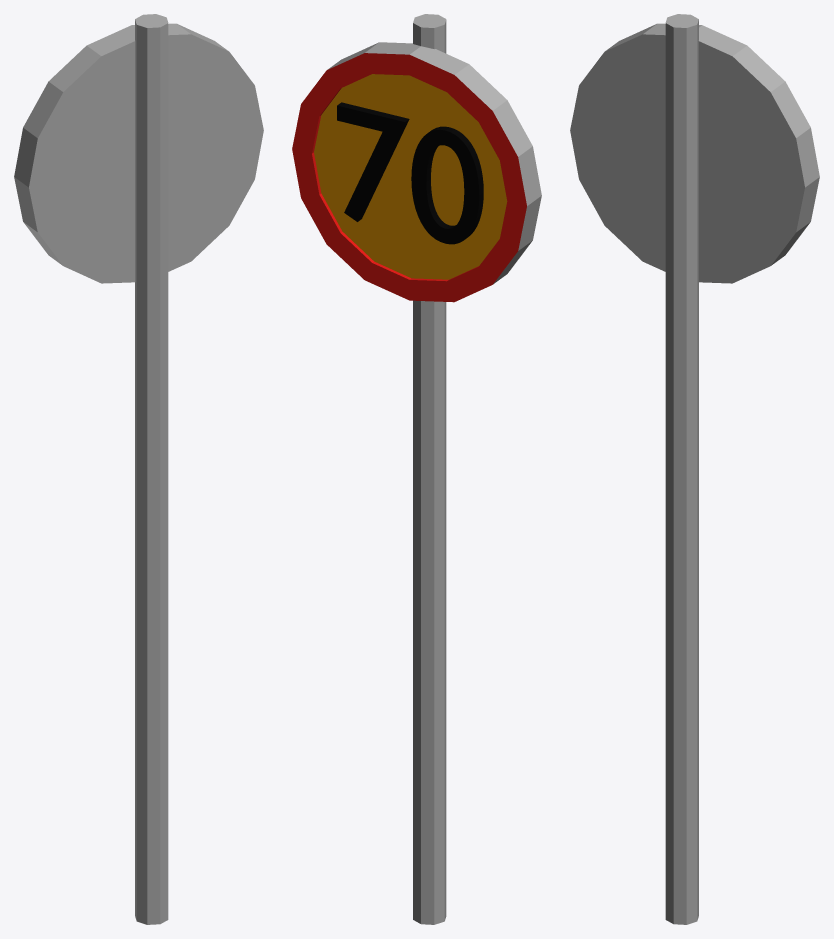
The model's file is 70sign.glb.
3 views of the same model, side by side, from view 1: azimuth 30°, elevation 25°; view 2: azimuth 150°, elevation 25°; view 3: azimuth 330°, elevation 25° (orthographic).
Visible parts, largest first — view 1: Text; view 2: Text; view 3: Text.
Boxes of the visible parts, <box> form: Text: <box>14,14,263,924</box>; Text: <box>292,14,541,924</box>; Text: <box>570,14,819,924</box>.
Size of the model in its own units: 0.9062 by 3.3 by 0.2084.
